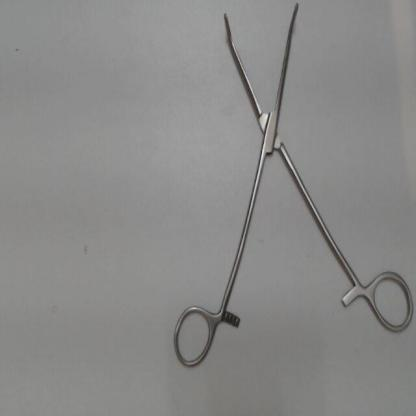Lahey Forceps: (170, 2, 415, 374)
